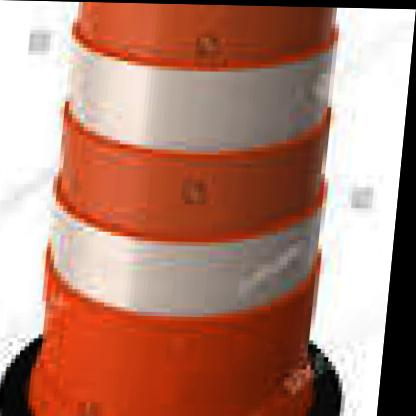obstacle: (27, 5, 357, 416)
